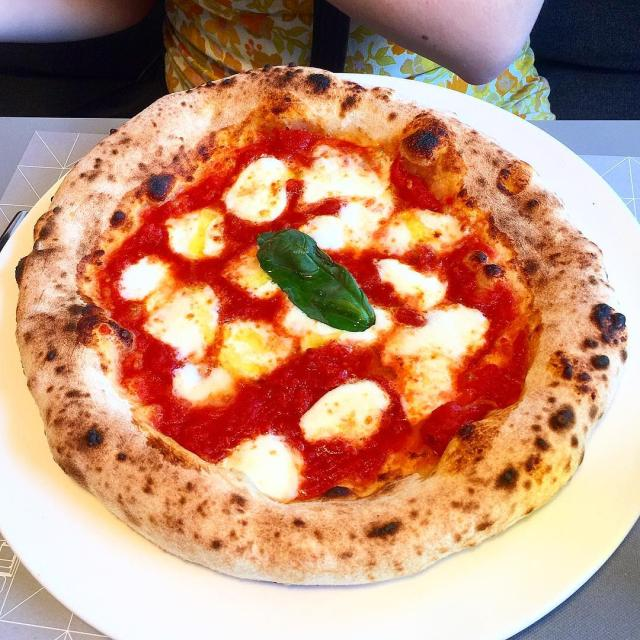basil: (256, 229, 375, 331)
pizza: (17, 66, 628, 584)
